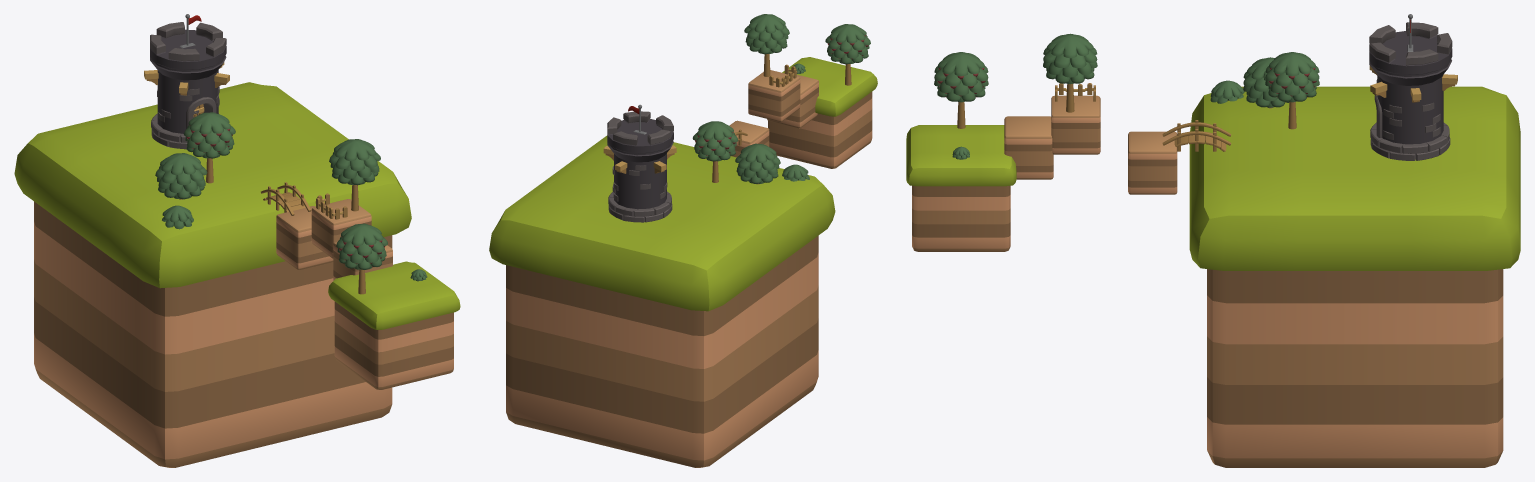
Rendered from level.glb.
3 renders of one model, left to right at view 1: azimuth 30°, elevation 25°; view 2: azimuth 150°, elevation 25°; view 3: azimuth 270°, elevation 25°, orthographic. The views are drawn at different scales.
Parts seen in each view (by area): view 1: Cube_Grass_Single.001, Cube_Grass_Single, Tower, Cube_Dirt_Single.002, Tree, Tree_Fruit.001, Tree_Fruit, Tree.001, Cube_Dirt_Single.001, Bridge_Small, Cube_Dirt_Single, Bush.001; view 2: Cube_Grass_Single.001, Cube_Grass_Single, Tower, Cube_Dirt_Single.001, Tree, Tree_Fruit.001, Tree_Fruit, Tree.001, Cube_Dirt_Single, Cube_Dirt_Single.002; view 3: Cube_Grass_Single.001, Cube_Grass_Single, Tower, Cube_Dirt_Single.002, Cube_Dirt_Single, Cube_Dirt_Single.001, Tree, Tree_Fruit.001, Tree_Fruit, Bridge_Small, Tree.001.
Part boxes in pixels (box(x1,y1,x2,y2)): Cube_Grass_Single.001: box(14, 82, 411, 467); Cube_Grass_Single: box(328, 261, 460, 389); Tower: box(144, 14, 229, 149); Cube_Dirt_Single.002: box(276, 206, 333, 269); Tree: box(329, 139, 380, 211); Tree_Fruit.001: box(184, 112, 235, 183); Tree_Fruit: box(336, 223, 387, 294); Tree.001: box(155, 153, 207, 199); Cube_Dirt_Single.001: box(311, 199, 371, 258); Bridge_Small: box(261, 182, 311, 215); Cube_Dirt_Single: box(333, 241, 392, 280); Bush.001: box(162, 205, 193, 229); Cube_Grass_Single.001: box(489, 135, 835, 467); Cube_Grass_Single: box(768, 57, 877, 168); Tower: box(603, 104, 676, 222); Cube_Dirt_Single.001: box(748, 70, 800, 121); Tree: box(744, 14, 789, 76); Tree_Fruit.001: box(692, 121, 738, 182); Tree_Fruit: box(825, 24, 870, 85); Tree.001: box(735, 143, 780, 184); Cube_Dirt_Single: box(767, 74, 818, 128); Cube_Dirt_Single.002: box(729, 120, 769, 157); Cube_Grass_Single.001: box(1189, 86, 1520, 467); Cube_Grass_Single: box(906, 125, 1016, 251); Tower: box(1369, 14, 1457, 160); Cube_Dirt_Single.002: box(1128, 131, 1177, 194); Cube_Dirt_Single: box(1004, 116, 1053, 179); Cube_Dirt_Single.001: box(1051, 95, 1100, 154); Tree: box(1043, 33, 1097, 112); Tree_Fruit.001: box(1265, 52, 1319, 129); Tree_Fruit: box(934, 52, 988, 128); Bridge_Small: box(1162, 120, 1231, 151); Tree.001: box(1243, 57, 1289, 108).
Size of the model in its own units: 67 by 89 by 124.
